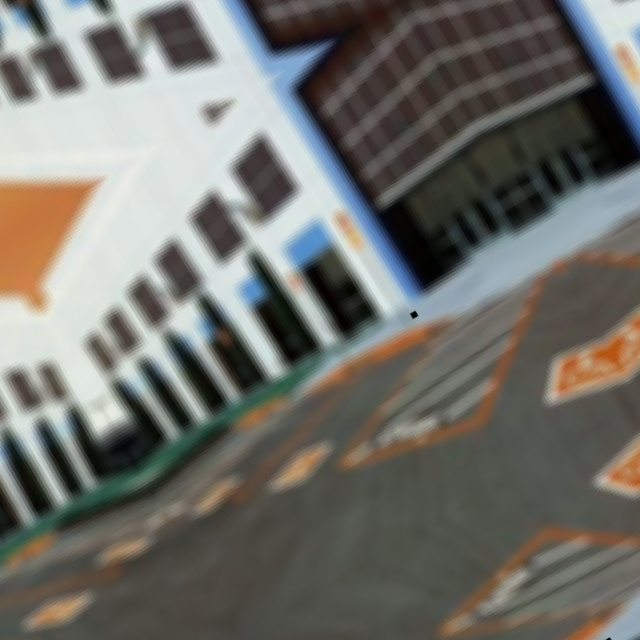ISA: (555, 338, 623, 401), (602, 309, 640, 373), (610, 430, 640, 493), (37, 587, 83, 628), (273, 447, 318, 488), (197, 479, 231, 507), (105, 535, 138, 562)
